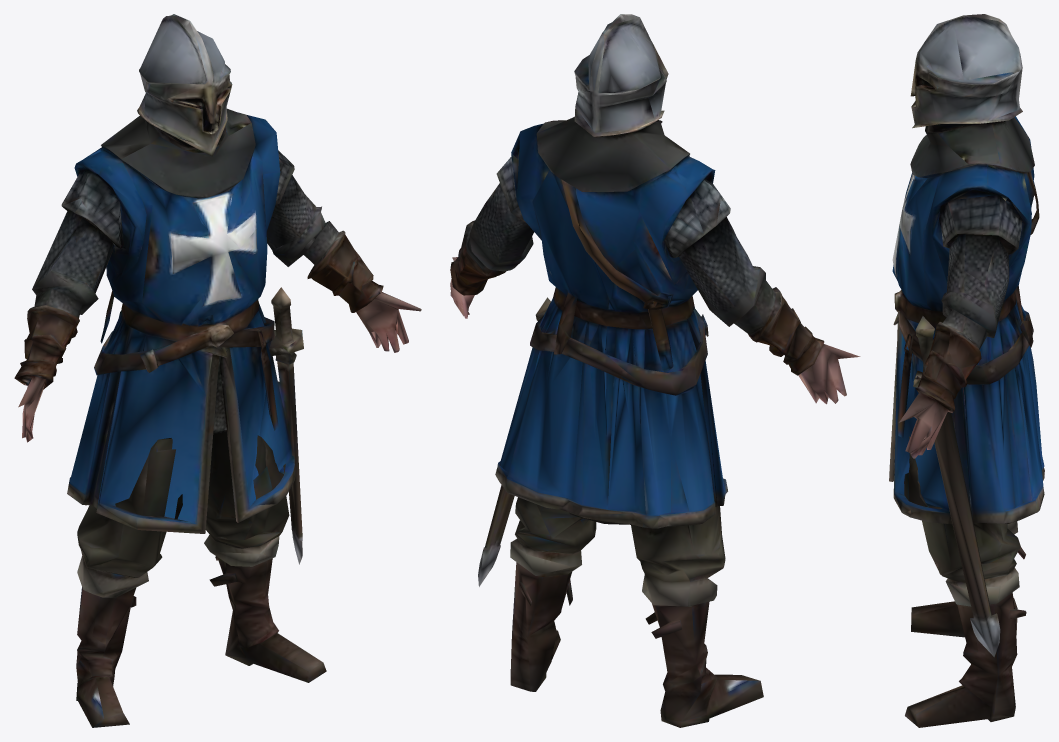
The model's file is hum_spear_lo.glb.
The picture shows the model from 3 angles, left to right: view 1: azimuth 30°, elevation 25°; view 2: azimuth 150°, elevation 25°; view 3: azimuth 270°, elevation 25°; orthographic projection.
Visible parts, largest first — view 1: node_0; view 2: node_0; view 3: node_0.
Boxes of the visible parts, x1=… form: node_0: x1=14, y1=14, x2=421, y2=727; node_0: x1=450, y1=14, x2=860, y2=727; node_0: x1=889, y1=14, x2=1044, y2=727.
Bounding box in the file's own units: 0.7142 × 1.13 × 0.2405.
Materials: 1 (1 with a texture image).
